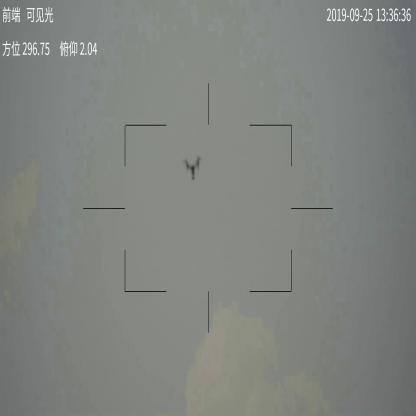uav: (182, 155, 203, 180)
